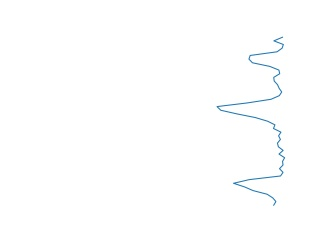underwaterNaturalLevee: (213, 34, 288, 210)
